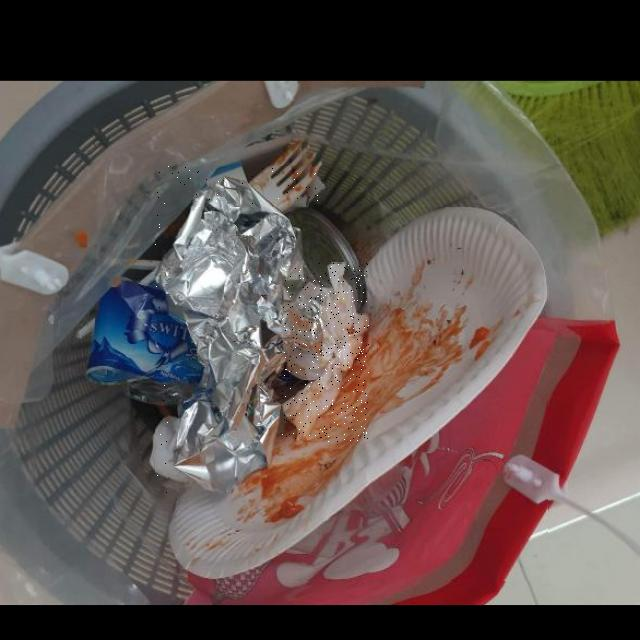metal: (156, 166, 323, 493)
paper: (168, 208, 548, 581), (283, 264, 369, 442)
